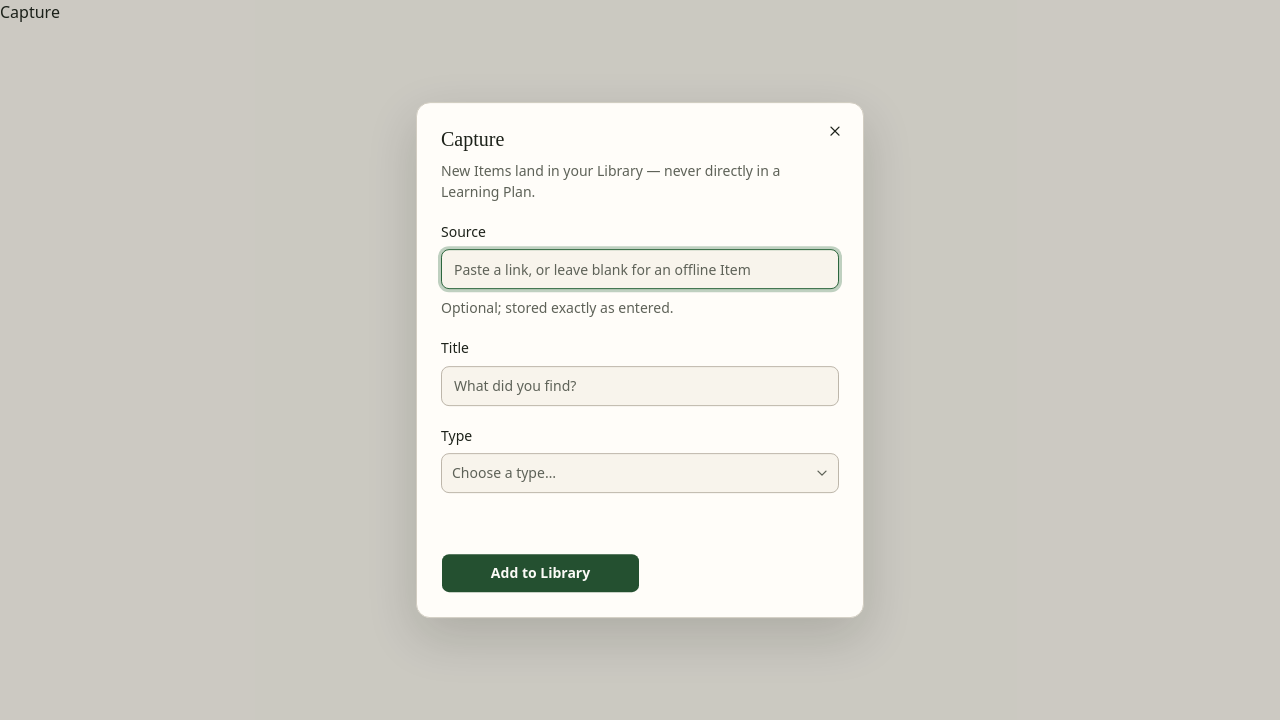
it: global Capture › announces preservation when the User replaces a Type suggestion
Type "https://youtu.be/abc_DEF-123" into the field labelled "Source".
click(640, 269); type("https://youtu.be/abc_DEF-123")  # box [441,249,839,289]
Wait 301 ms
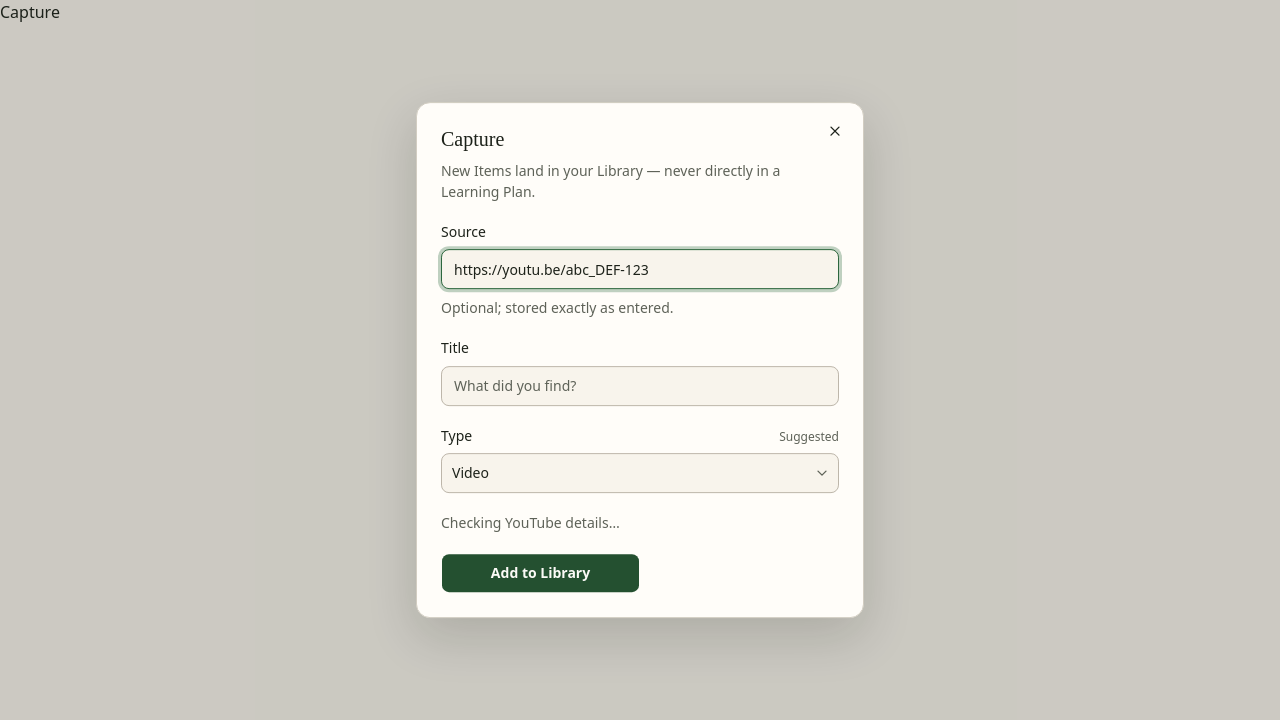
Click the dropdown named "Type".
click(470, 472)  # box [441,453,839,493]
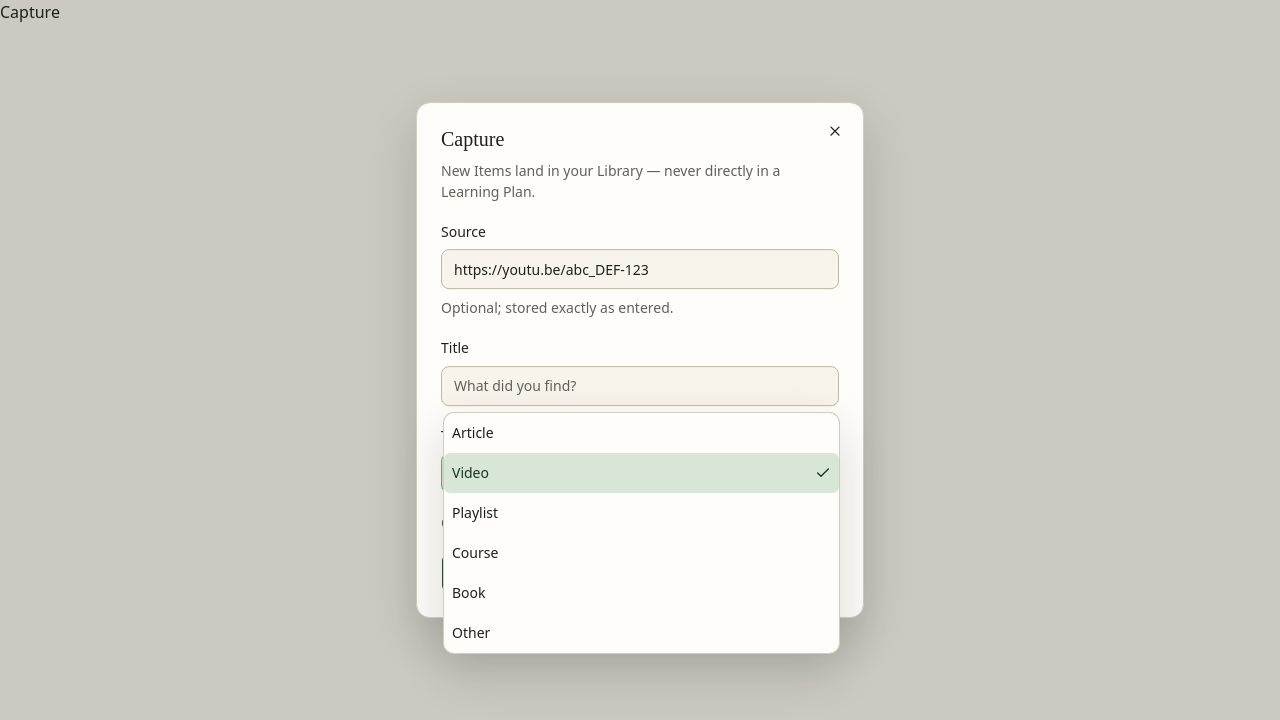
Click the option "Article".
click(473, 432)  # box [452,423,494,442]
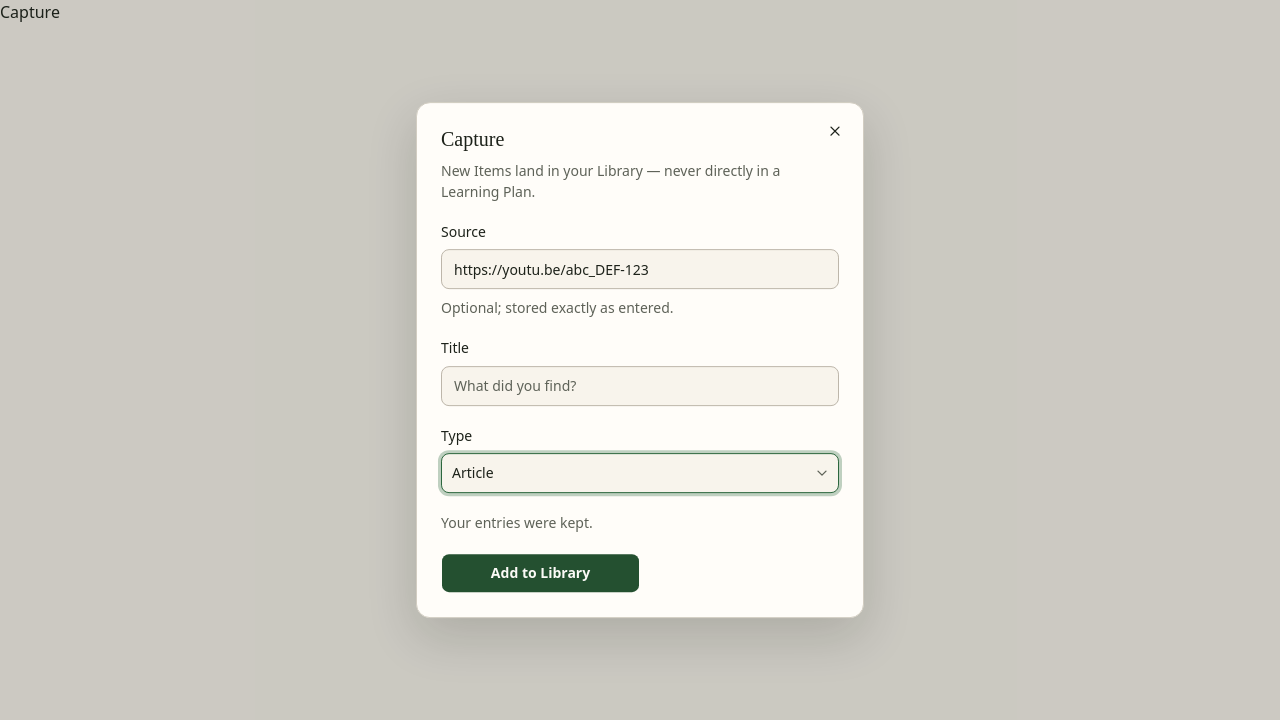
Check: the dropdown named "Type" reads "Article", box [441,453,839,493]
Check: the message shows "entries were kept", box [441,513,593,532]
